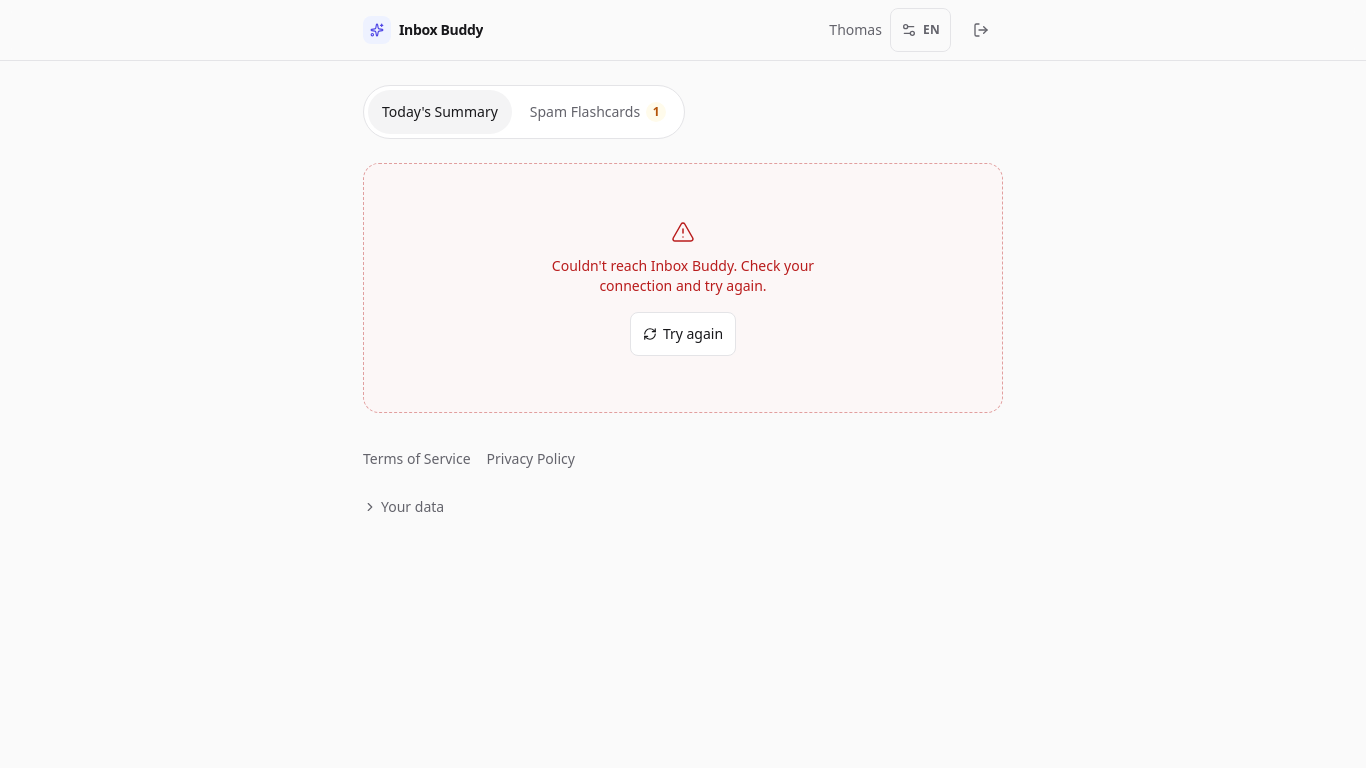
Test case: Dashboard › summary tab › says the connection failed when the request never reached the server, and Try again reloads
Expected: the text "Couldn't reach Inbox Buddy. Check your connection and try again." is shown, [552, 256, 814, 295]
Click the button "Try again" at (683, 334), box [630, 312, 736, 356]
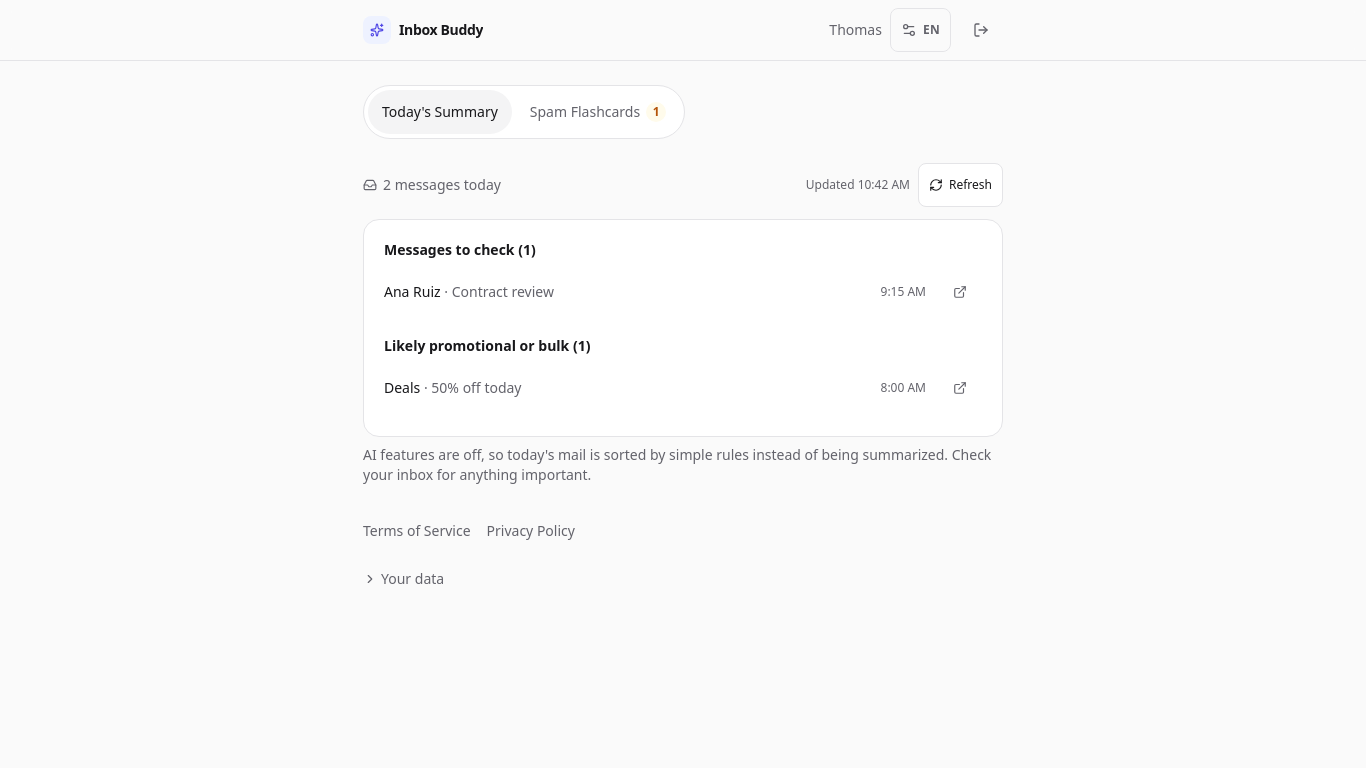
Result: the text "2 messages today" is shown at [363, 175, 501, 195]
